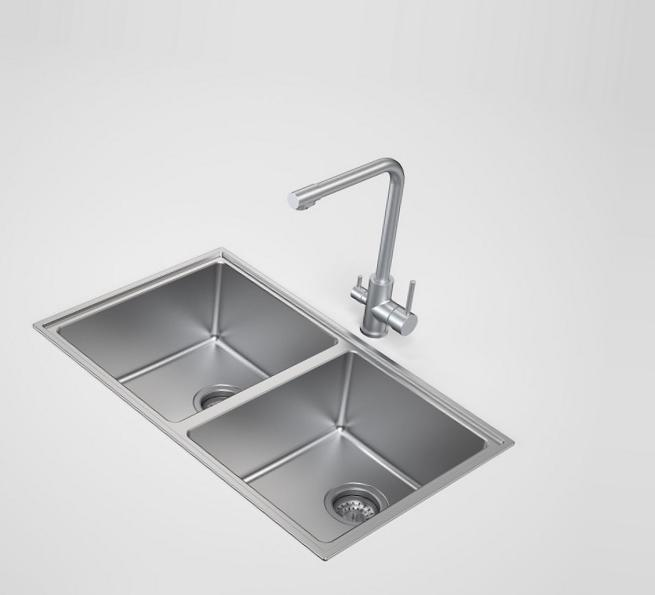Lavaplatos: (18, 134, 522, 573)
